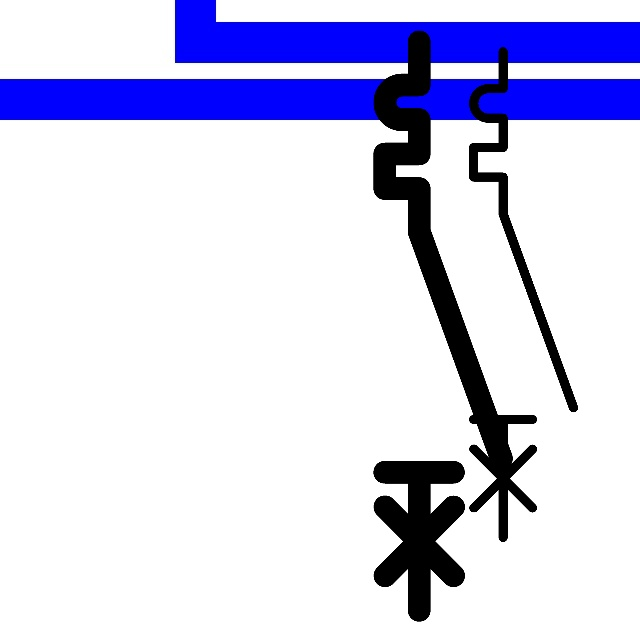interruptor_termomagnetico: (370, 27, 516, 625), (461, 39, 586, 550)
